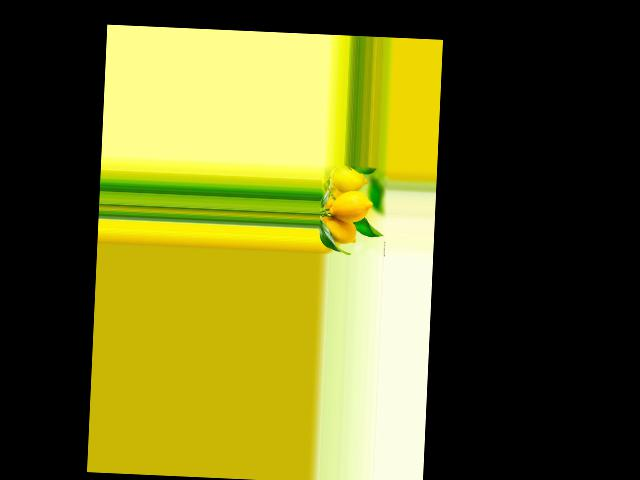lemon: (327, 167, 370, 193)
